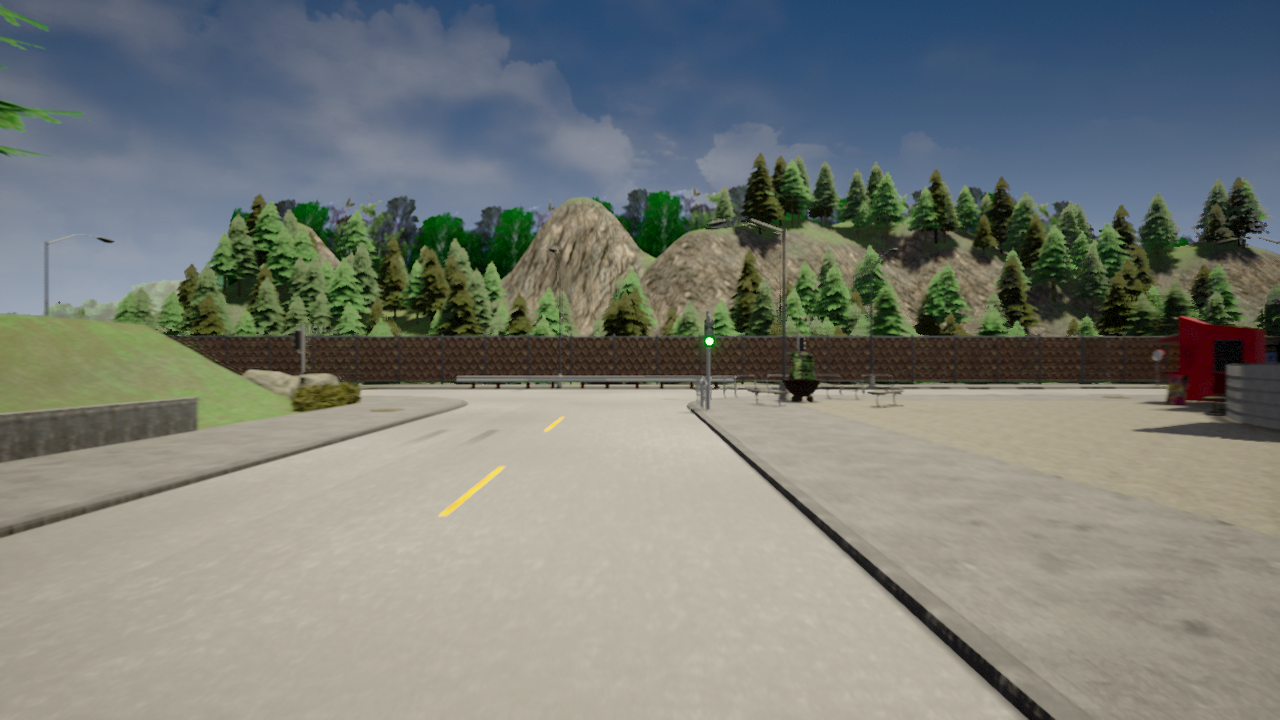green: (703, 319, 715, 347)
